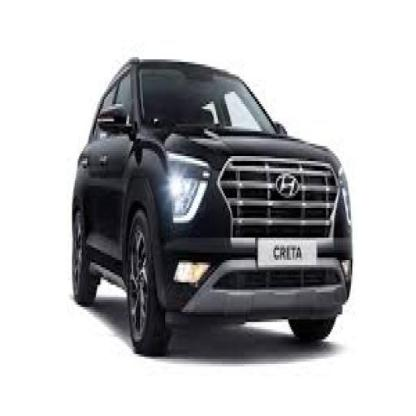car: (60, 50, 358, 361)
